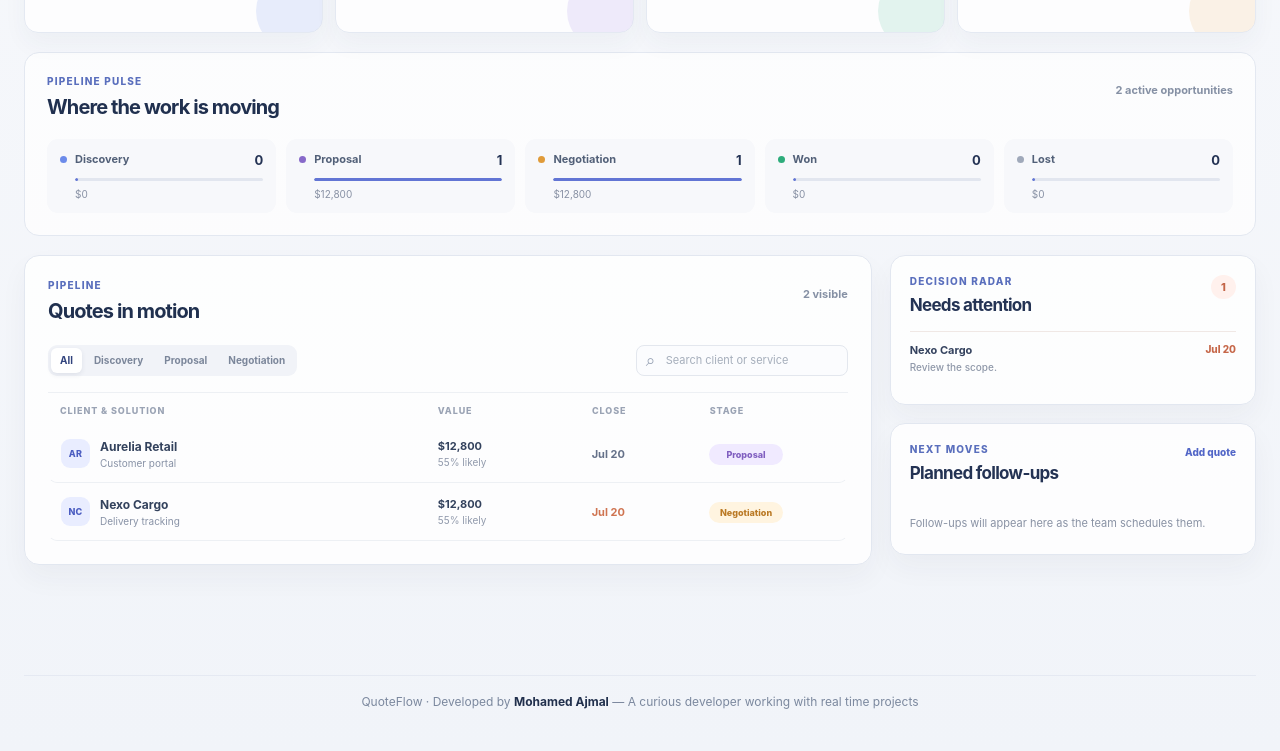
QuoteFlow dashboard › loads the pipeline, labels the demo honestly and filters by search
(page scrolled)
Expected: the text "Aurelia Retail" is shown, [100,439,177,454]
Type "Nexo" into the field with placeholder "Search client or service" at point(742, 360), box [636,345,848,376]
(page scrolled)
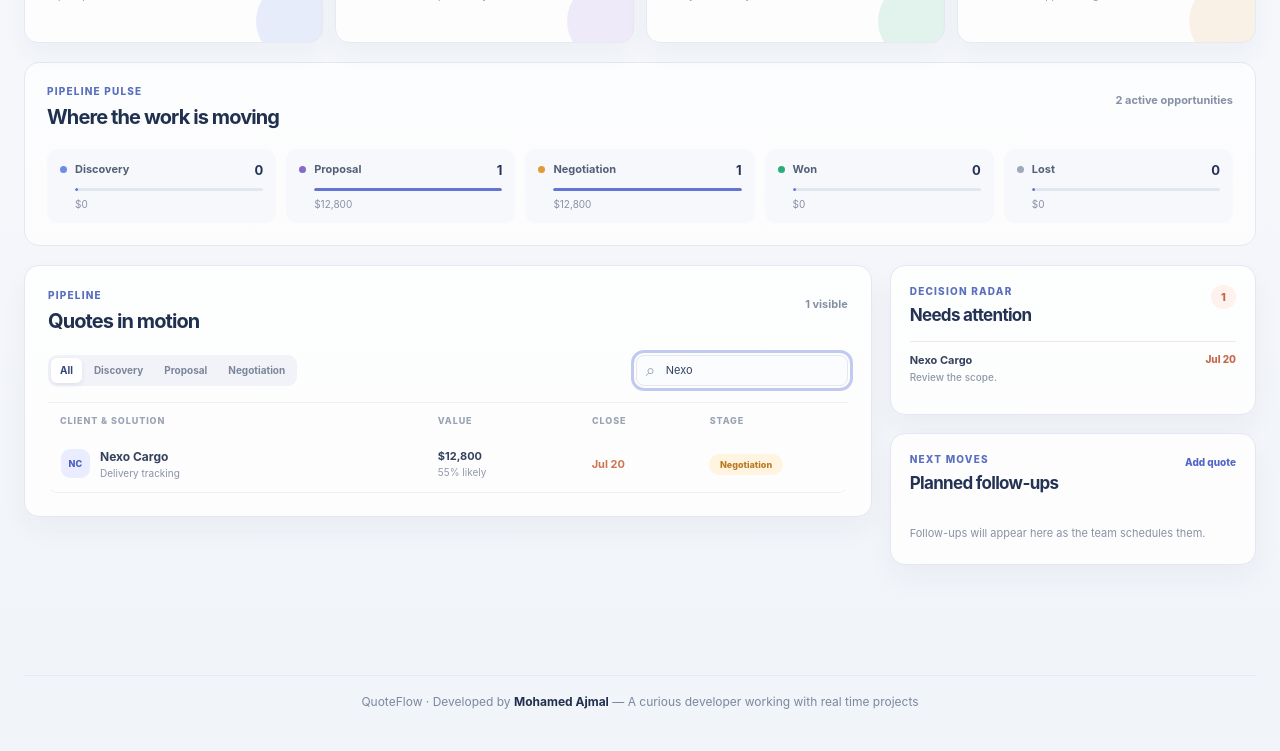
Expected: the text "Nexo Cargo" below "Client & solution" is shown, [100,449,168,464]
Expected: the button "Aurelia Retail" is gone
